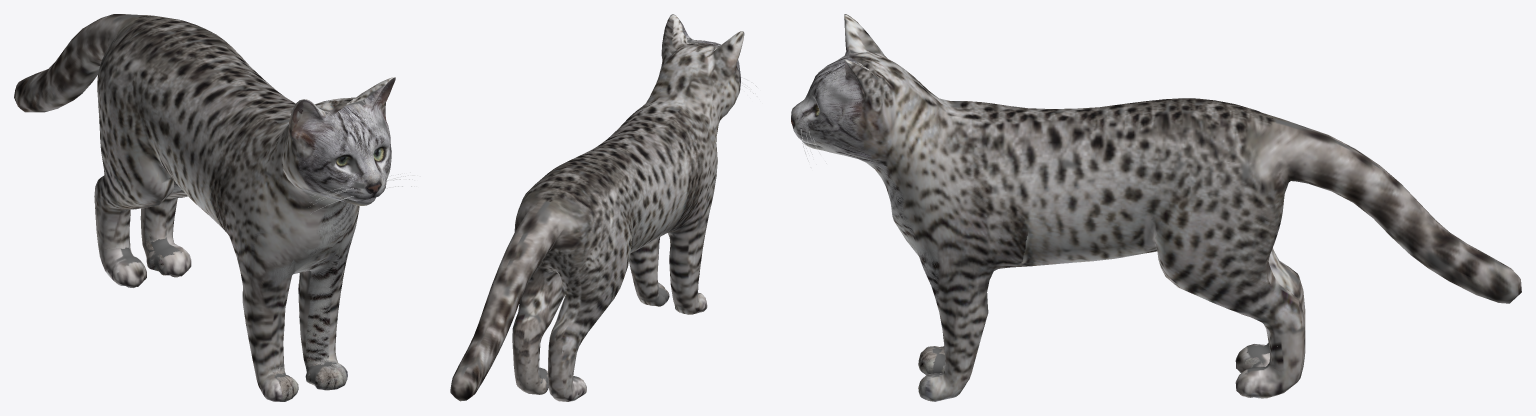
The model's file is EgyptianMau.gltf.
The picture shows the model from 3 angles, left to right: view 1: azimuth 30°, elevation 25°; view 2: azimuth 150°, elevation 25°; view 3: azimuth 270°, elevation 25°; orthographic projection. The views are drawn at different scales.
Parts seen in each view (by area): view 1: high_poly; view 2: high_poly; view 3: high_poly.
Boxes of the visible parts, x1,y1,x2,y2 form: high_poly: (14, 14, 395, 401); high_poly: (450, 14, 744, 401); high_poly: (791, 14, 1521, 401).
Bounding box in the file's own units: 0.8994 × 2.35 × 4.46.
3 materials, 2 textured.
